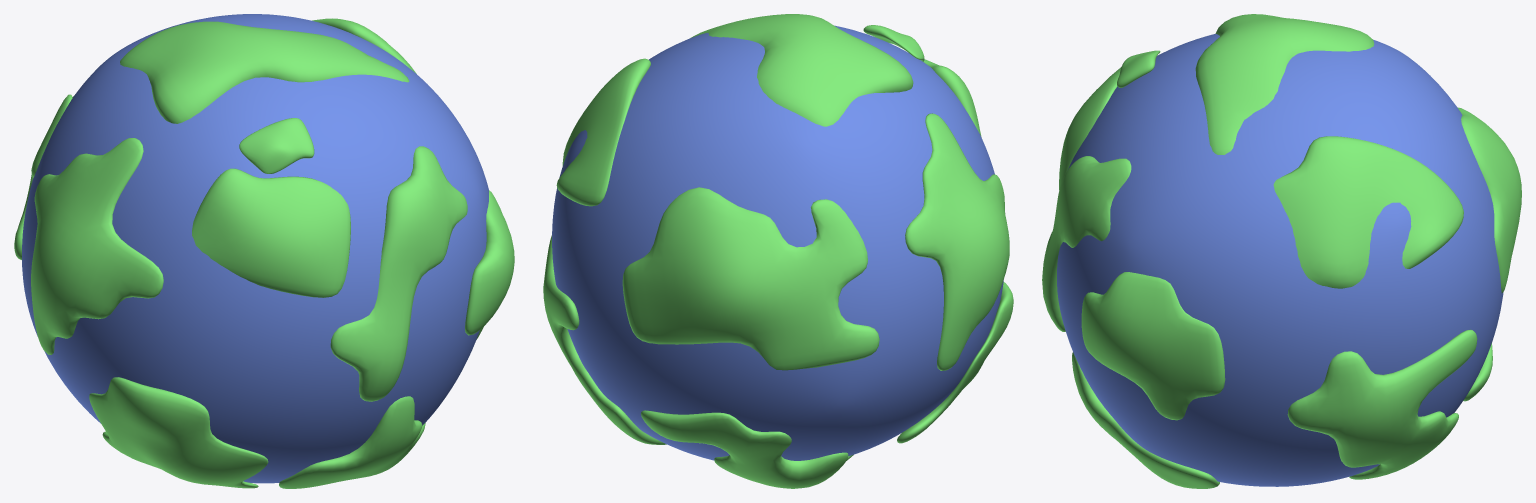
File: world.fbx
3 renders of one model, left to right at view 1: azimuth 30°, elevation 25°; view 2: azimuth 150°, elevation 25°; view 3: azimuth 270°, elevation 25°, orthographic. The views are drawn at different scales.
Parts seen in each view (by area): view 1: Cube; view 2: Cube; view 3: Cube.
Part boxes in pixels (x1,y1,x2,y2): Cube: (14,14,514,488); Cube: (543,14,1013,488); Cube: (1042,14,1521,488).
Size of the model in its own units: 1.67 by 1.65 by 1.68.
